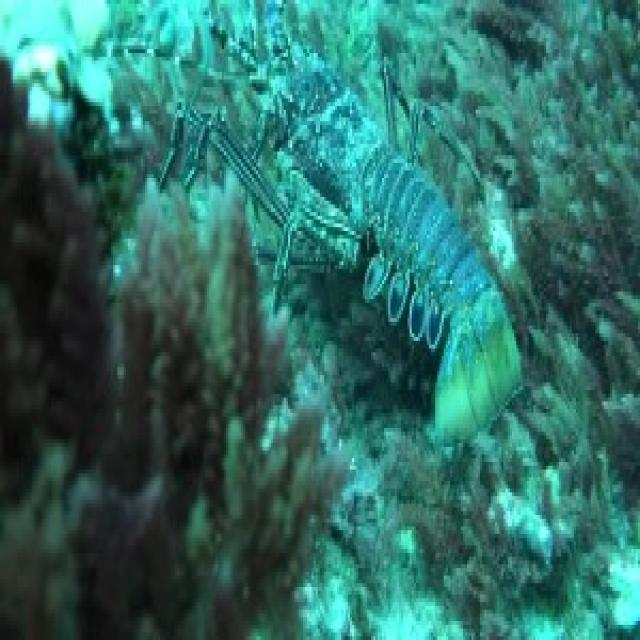lobsters: (127, 32, 605, 506)
